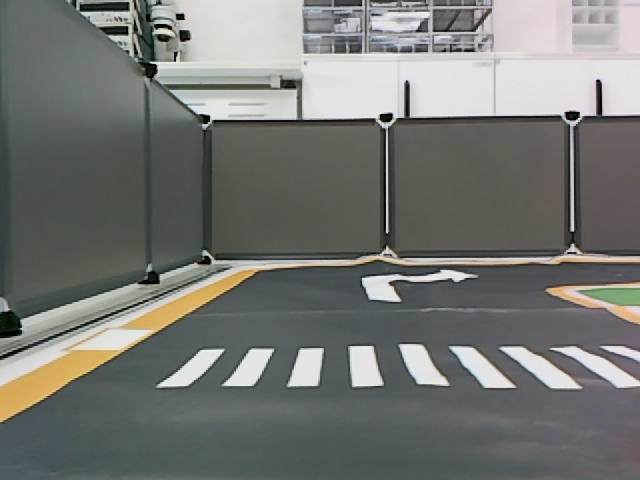crosswalk: (155, 343, 640, 392)
